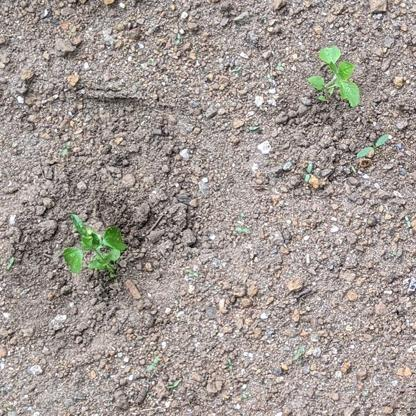weed: (60, 211, 128, 277), (307, 45, 361, 113)
